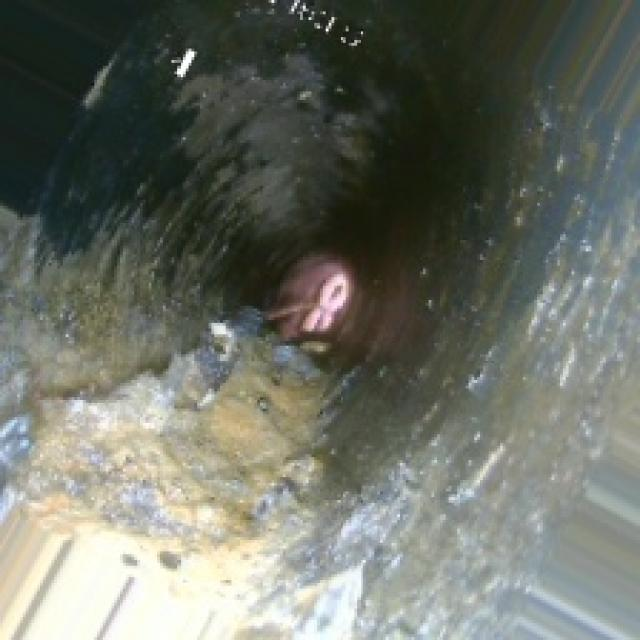sluge accumulation: (26, 312, 374, 634)
